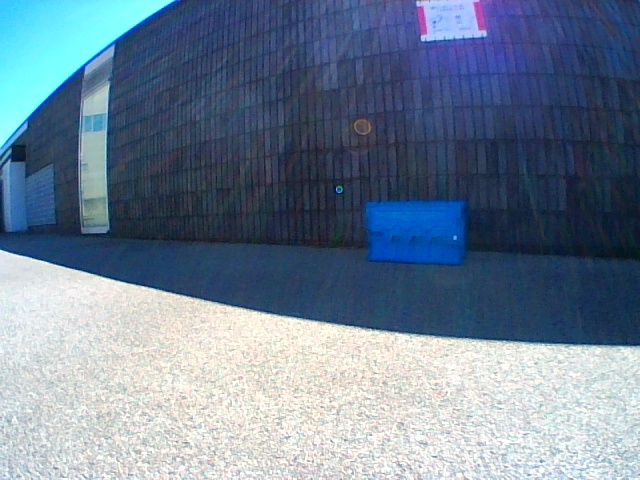blue_box: (363, 200, 467, 266)
